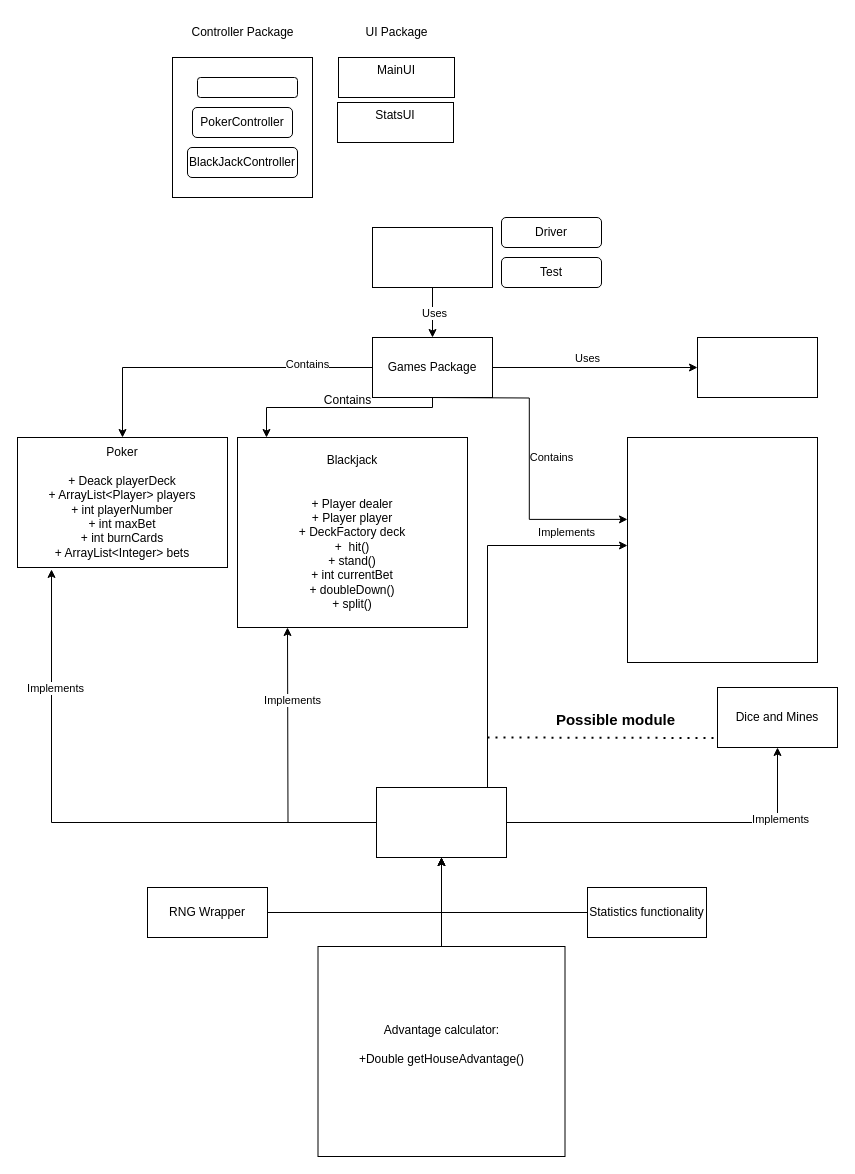
Image size: 855x1174. Some labels were removed from this diagram. Here are the shapes that lost their labels. From the top down, the centre of each, then its label:
the point at 247,87: RouletteController
the point at 432,257: Driver/Test Package
the point at 757,367: JCards Library
the point at 722,549: Roulette +HashMap<Integer> rouletteVals +HashMap<Integer, String> betLink
the point at 441,822: Calculator Interface
